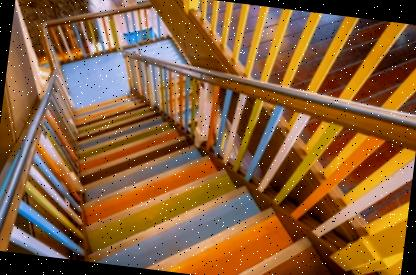stair: (50, 78, 317, 275)
